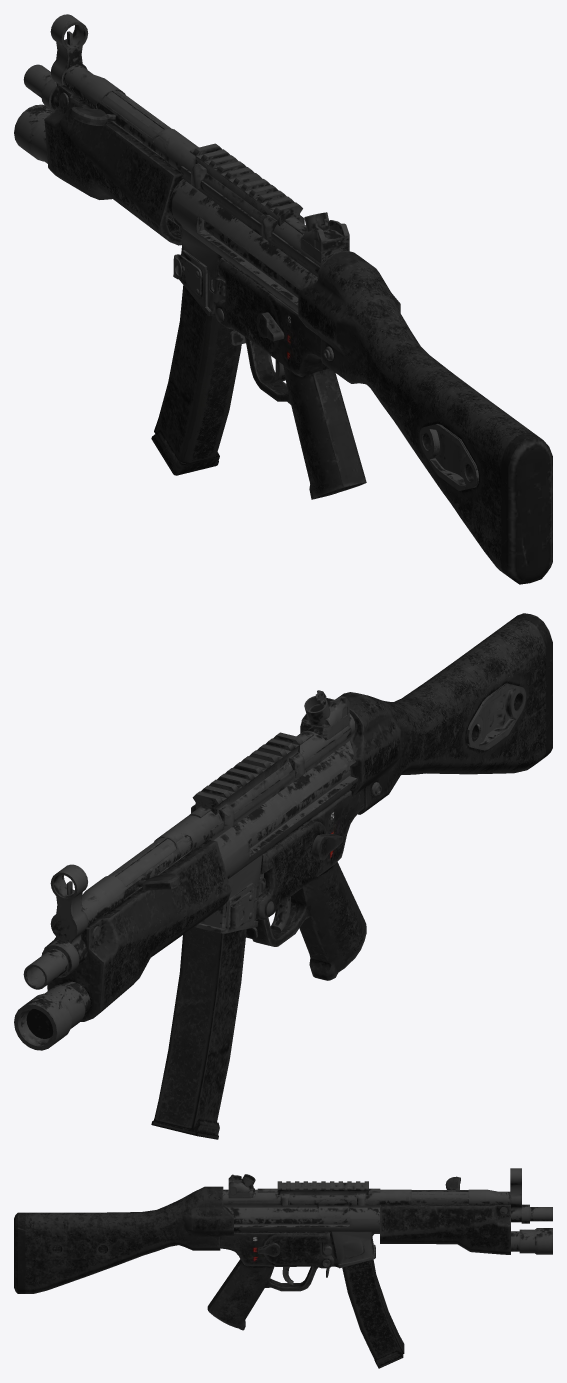
3 renders of one model, top to bottom at view 1: azimuth 30°, elevation 25°; view 2: azimuth 150°, elevation 25°; view 3: azimuth 270°, elevation 25°, orthographic. The views are drawn at different scales.
Visible parts, largest first — view 1: Bolt_low_low_0, Mag_low_Maglow_0; view 2: Bolt_low_low_0, Mag_low_Maglow_0; view 3: Bolt_low_low_0, Mag_low_Maglow_0.
Part boxes in pixels (left/top/right/bottom): Bolt_low_low_0: left=14, top=14, right=552, bottom=584; Mag_low_Maglow_0: left=151, top=285, right=241, bottom=475; Bolt_low_low_0: left=14, top=613, right=552, bottom=1050; Mag_low_Maglow_0: left=151, top=927, right=246, bottom=1139; Bolt_low_low_0: left=14, top=1168, right=552, bottom=1330; Mag_low_Maglow_0: left=342, top=1259, right=404, bottom=1368.
Size of the model in its own units: 0.0701 by 0.27 by 0.68.
2 materials, 2 textured.
